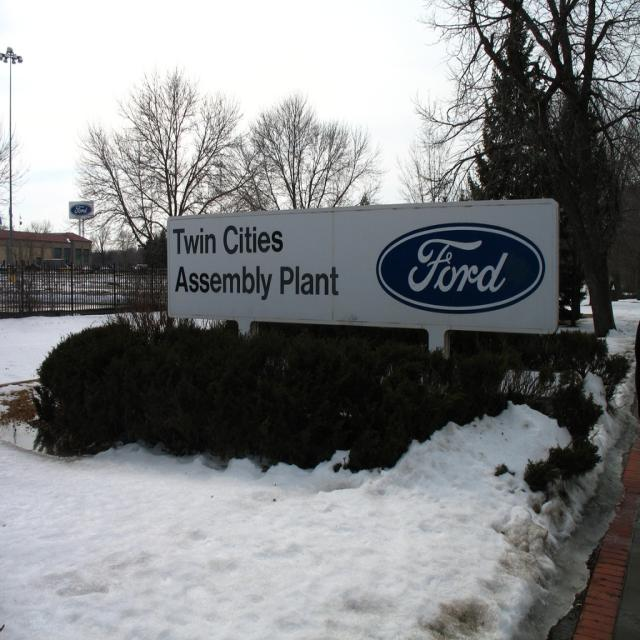ford: (374, 219, 549, 315)
